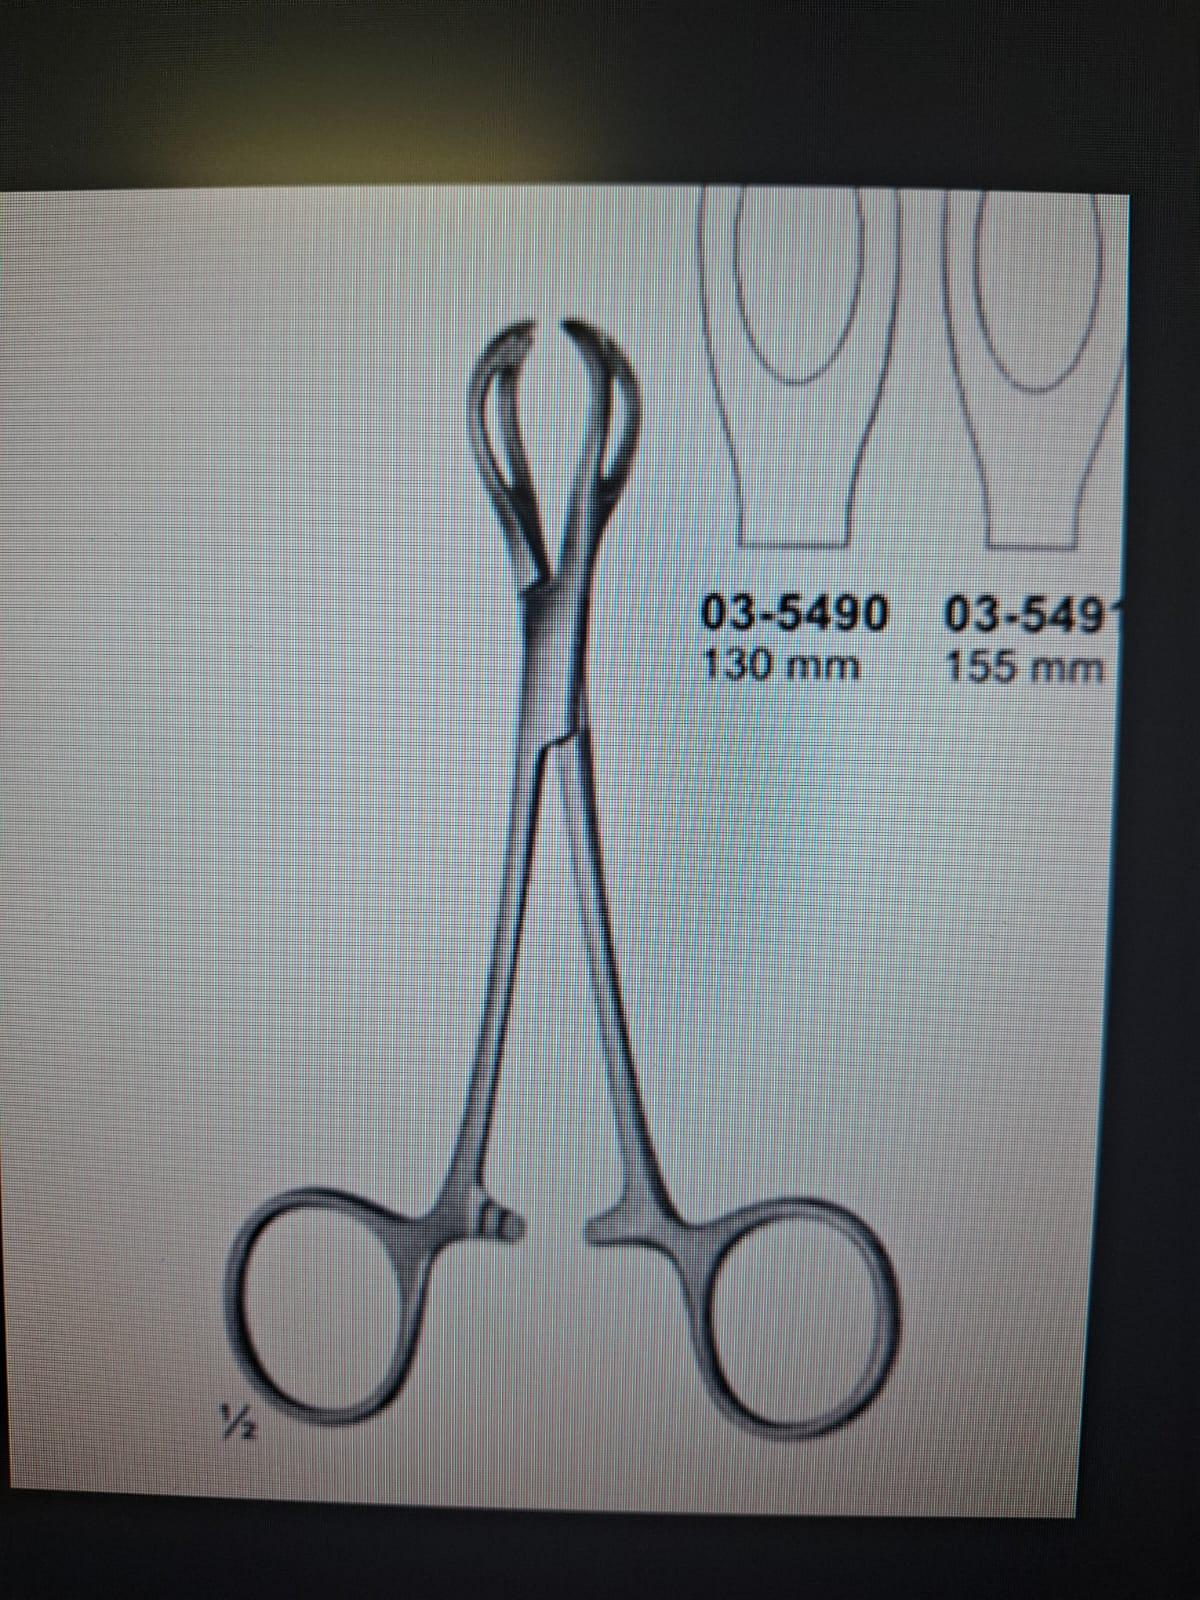Lane Tissue Forceps: (221, 297, 923, 1460)
